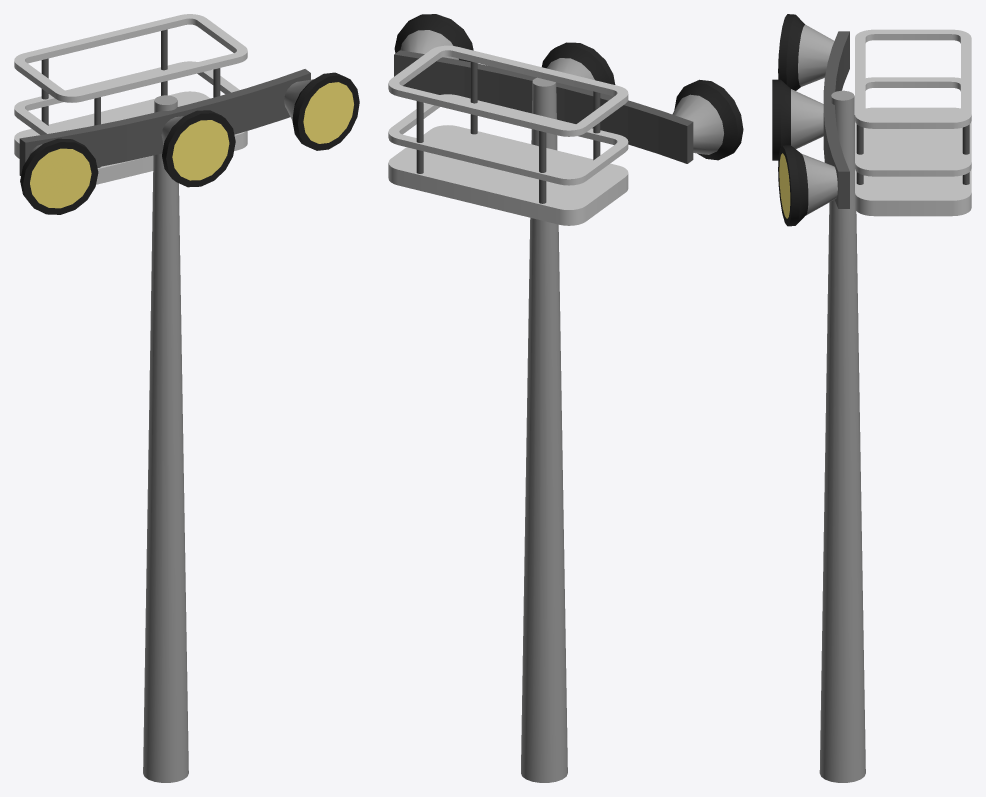
Rendered from Spotlight Stadium Big.fbx.
3 views of the same model, side by side, from view 1: azimuth 30°, elevation 25°; view 2: azimuth 150°, elevation 25°; view 3: azimuth 270°, elevation 25° (orthographic). The views are drawn at different scales.
Parts seen in each view (by area): view 1: Spotlight Stadium BIg; view 2: Spotlight Stadium BIg; view 3: Spotlight Stadium BIg.
Part boxes in pixels (bbox=[...]): Spotlight Stadium BIg: bbox=[14, 14, 359, 782]; Spotlight Stadium BIg: bbox=[388, 14, 743, 782]; Spotlight Stadium BIg: bbox=[772, 14, 971, 782].
Bounding box in the file's own units: 427 × 839 × 217.
